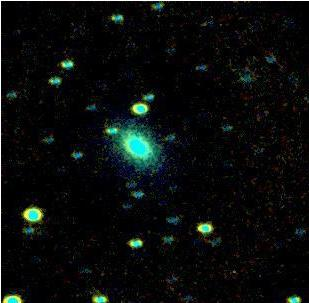star: (121, 153, 151, 183)
